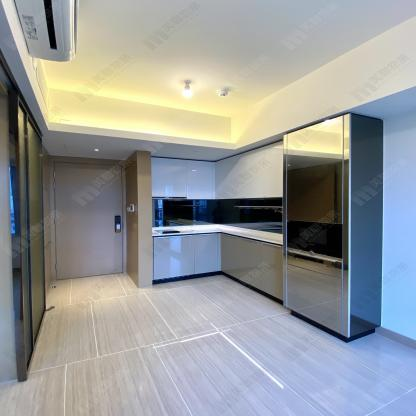Cupboard: (155, 235, 283, 299), (152, 142, 287, 199), (151, 157, 215, 197)
Exhaust Hood: (152, 197, 187, 199)
Oven: (287, 221, 344, 269)
Stove: (153, 229, 183, 234)
